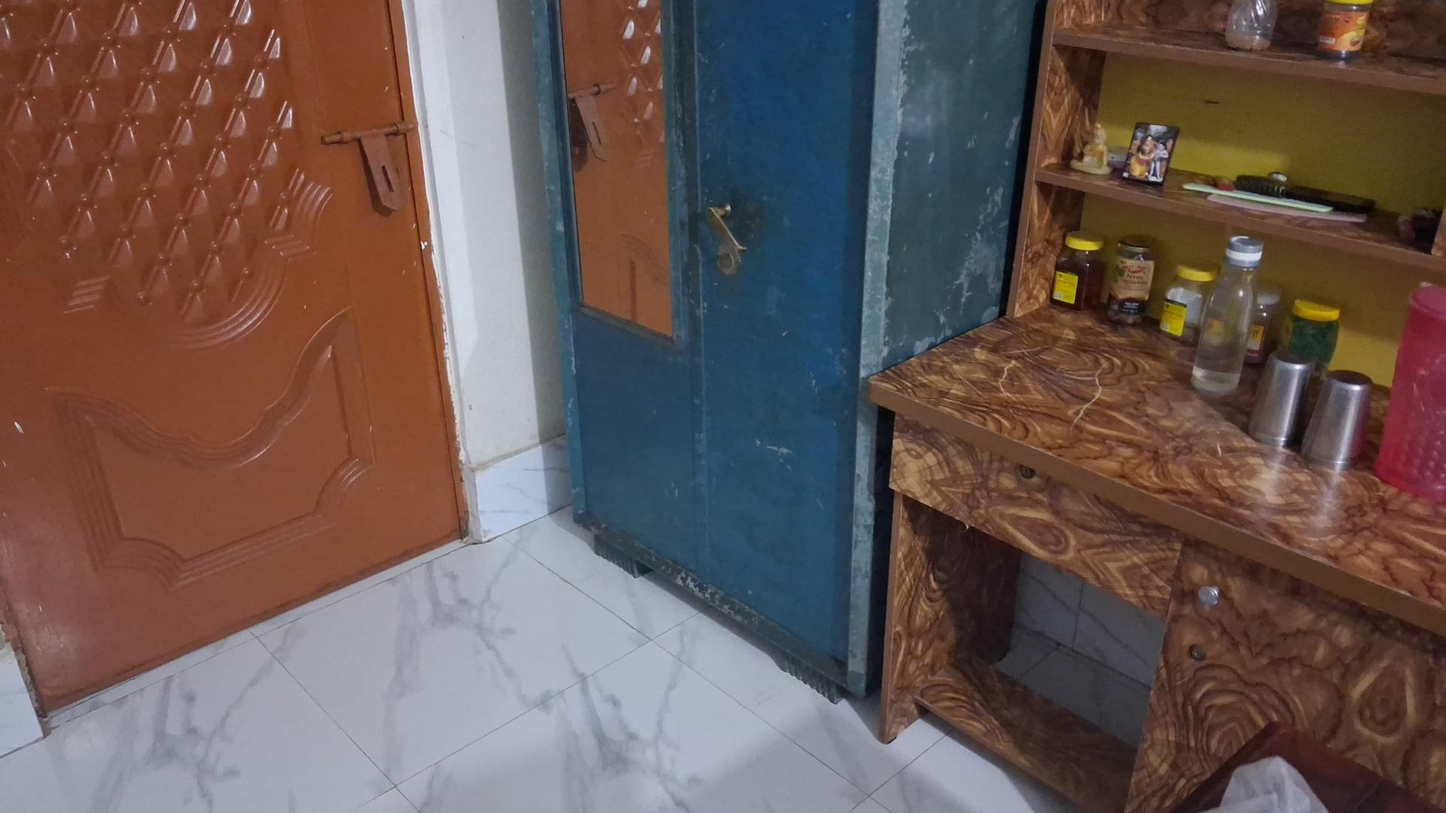Bottle: (1190, 235, 1264, 396)
Door: (0, 0, 477, 711)
Drawer: (877, 405, 1197, 634)
Glass: (1301, 369, 1373, 470), (1246, 352, 1314, 449)
Jar: (1050, 231, 1105, 311), (1113, 239, 1159, 325), (1163, 254, 1204, 341)
Jug: (1374, 284, 1445, 501)
Mirror: (543, 7, 690, 343)
